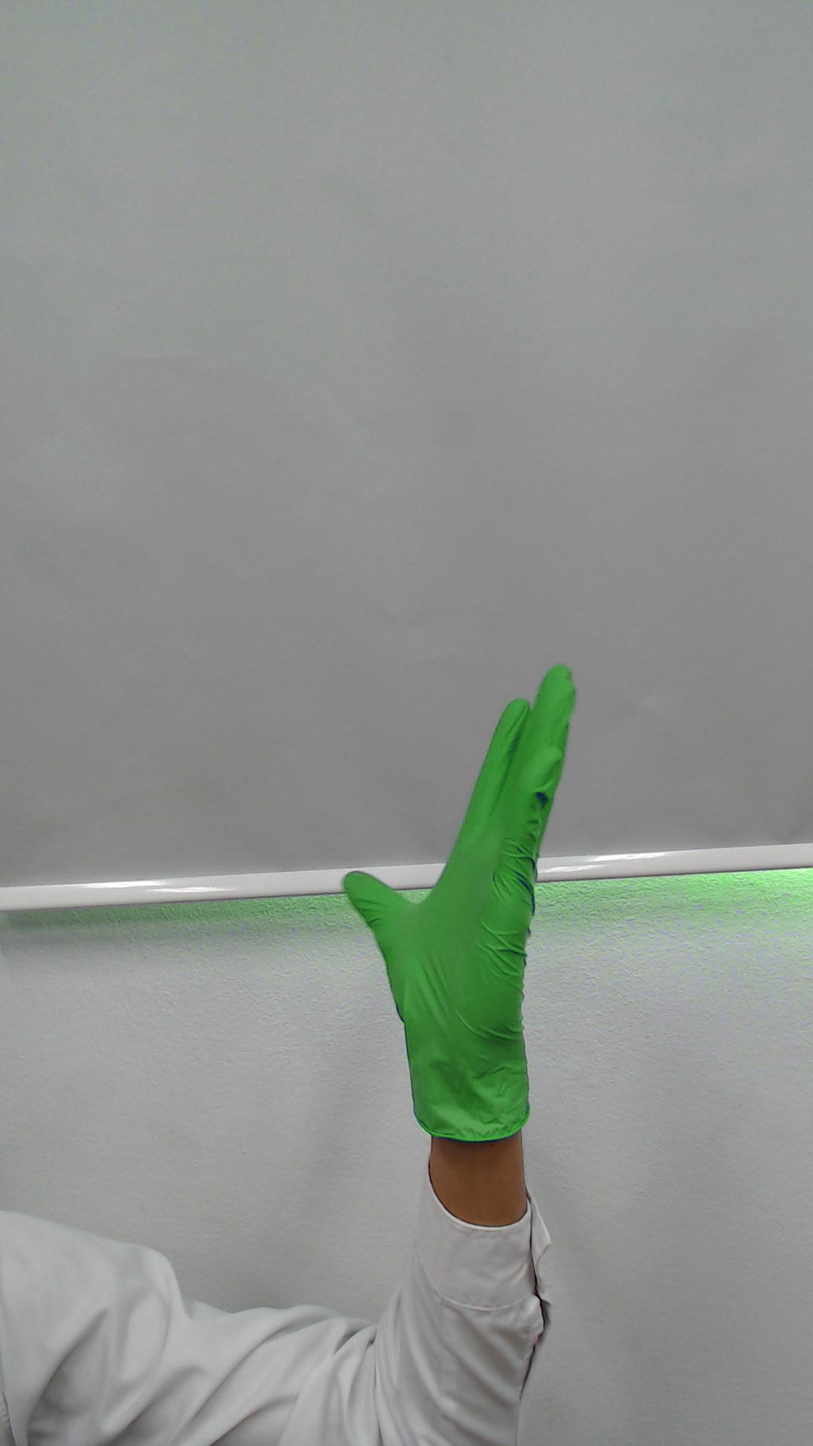gloves: (336, 648, 592, 1066)
